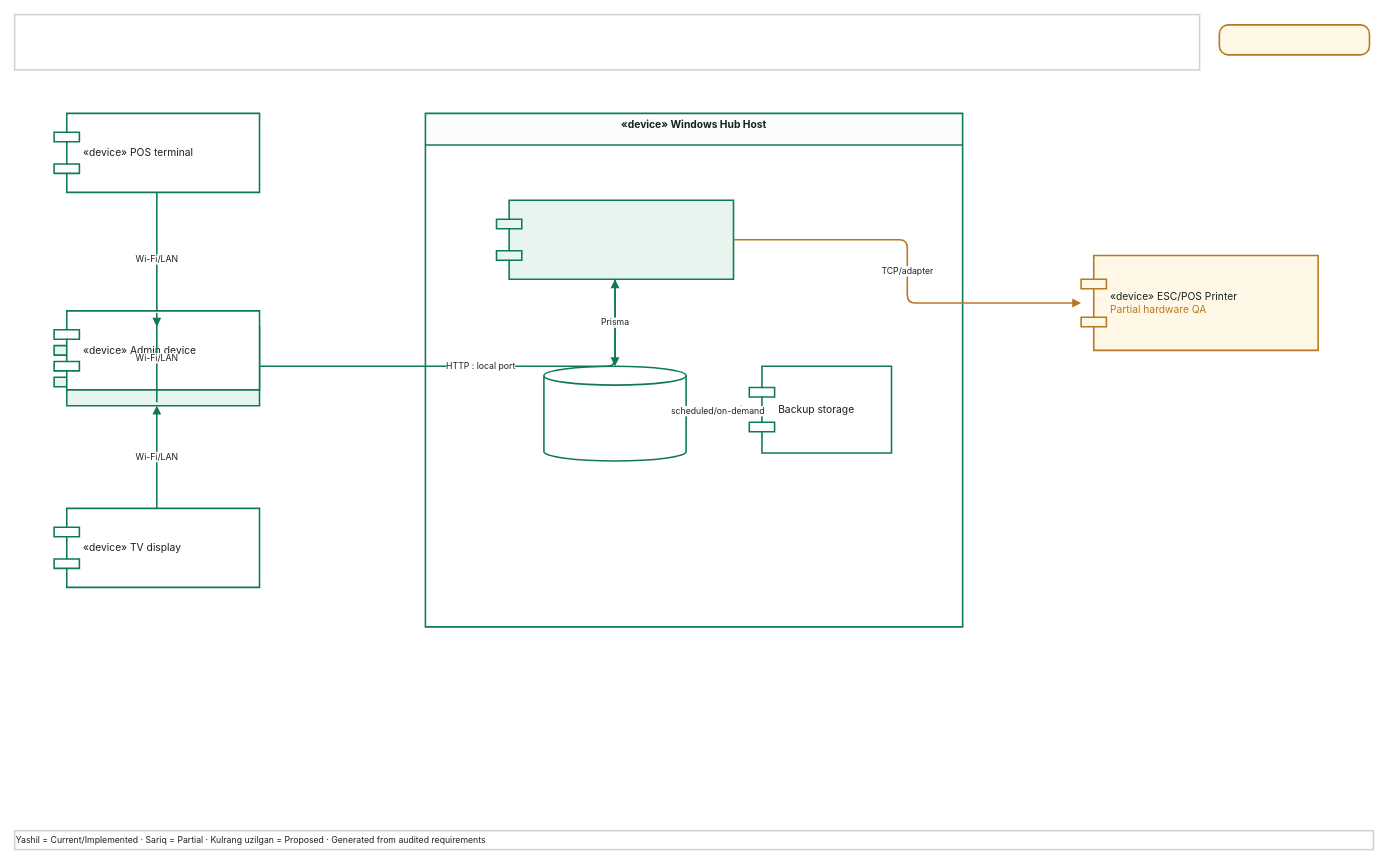
Some shapes in this 1387 by 863 pixel diagram are drawn without their labels. The shapes that lost their labels are listed below. From the top down, each one's centre as x and y in pixels, then its label:
At pixel 606 41: "D23 · Current Hub Only Deployment UML Deployment · osonCafe SDLC".
At pixel 1294 39: "Current + Partial".
At pixel 614 239: "«artifact» Hub service Node.js/Express".
At pixel 615 413: "SQLite database".
